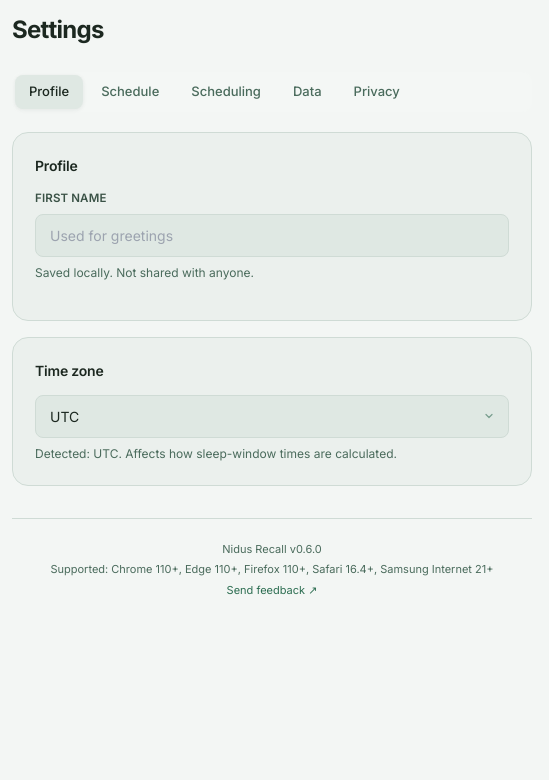
it: Flow 11 — SettingsView: study tab renders settings controls › renders study settings controls on the default tab
Expected: the text "Settings" is shown, [12,15,104,44]
# Navigate to Schedule tab which shows daily limits
Step 1. Click the button "Schedule" → coordinates (130, 92), box [87,75,173,108]
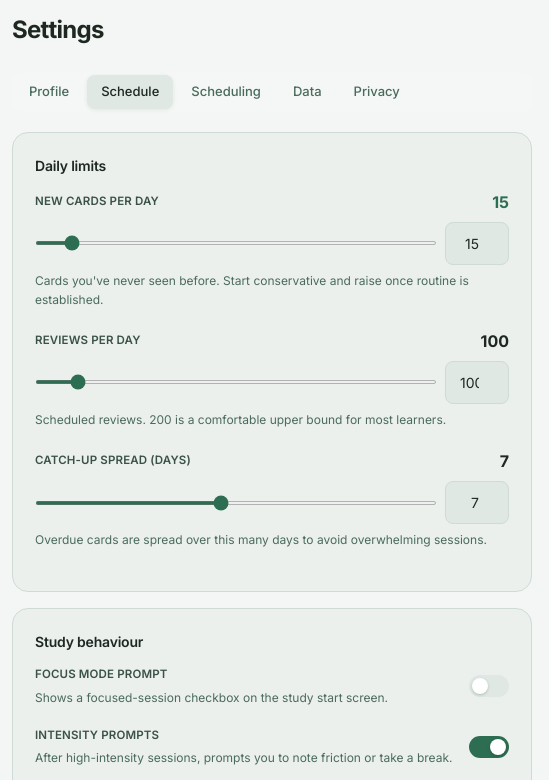
Expected: the text "New cards per day" is shown, [35,193,159,210]
